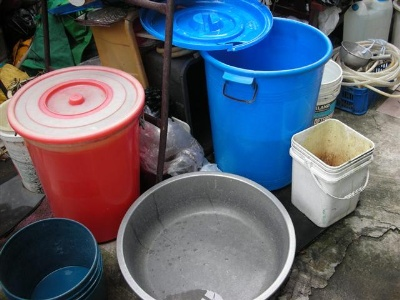bowl: (116, 171, 296, 300), (339, 41, 371, 68)
bucket: (7, 64, 146, 245), (200, 17, 334, 191), (289, 118, 376, 230), (1, 216, 107, 300), (342, 1, 395, 43)
plastic_bag: (21, 1, 96, 71), (166, 121, 205, 174)
plate: (137, 1, 273, 52)
